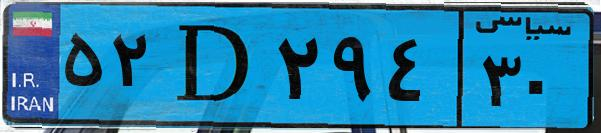0: (525, 38, 570, 115)
2: (270, 28, 330, 110), (110, 28, 158, 98)
3: (475, 38, 525, 113)
4: (385, 28, 445, 110)
5: (57, 26, 110, 100)
9: (330, 28, 385, 110)
D: (158, 12, 270, 120)
